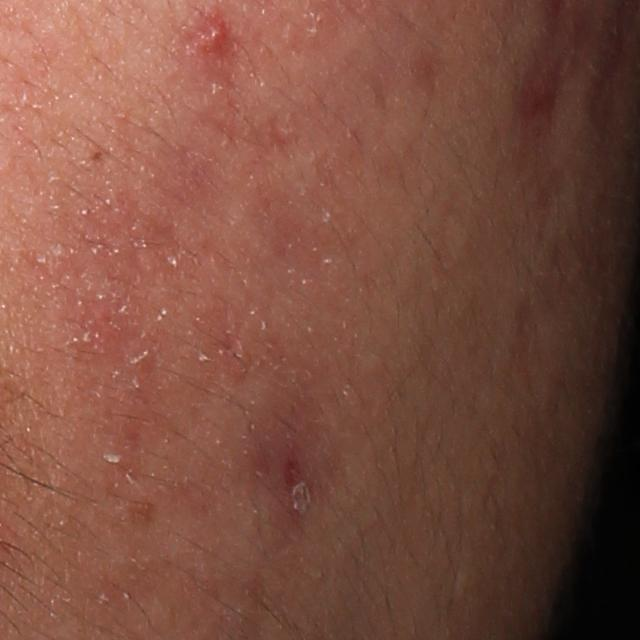papule: (199, 15, 237, 61)
